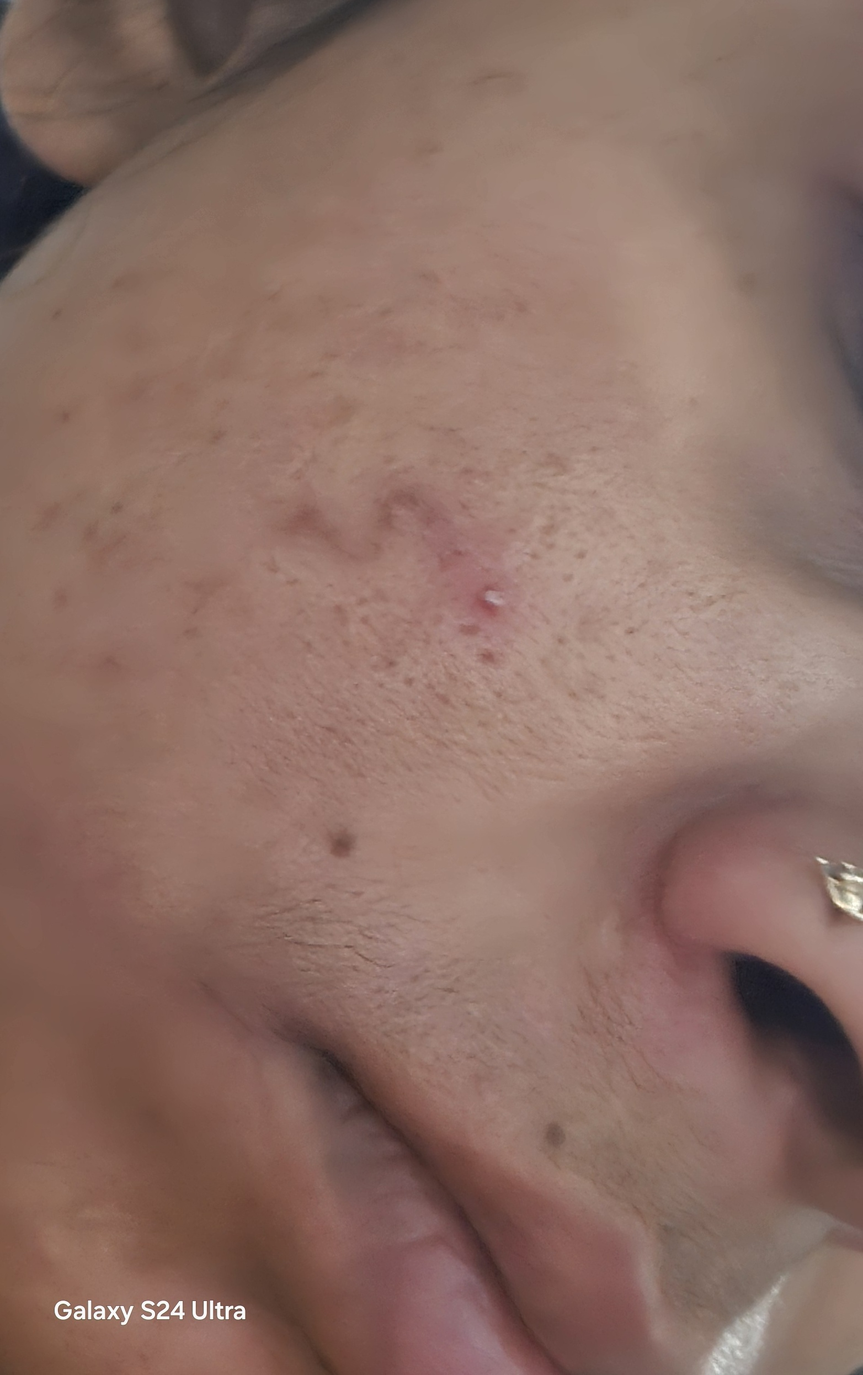pustule: (446, 565, 551, 651)
